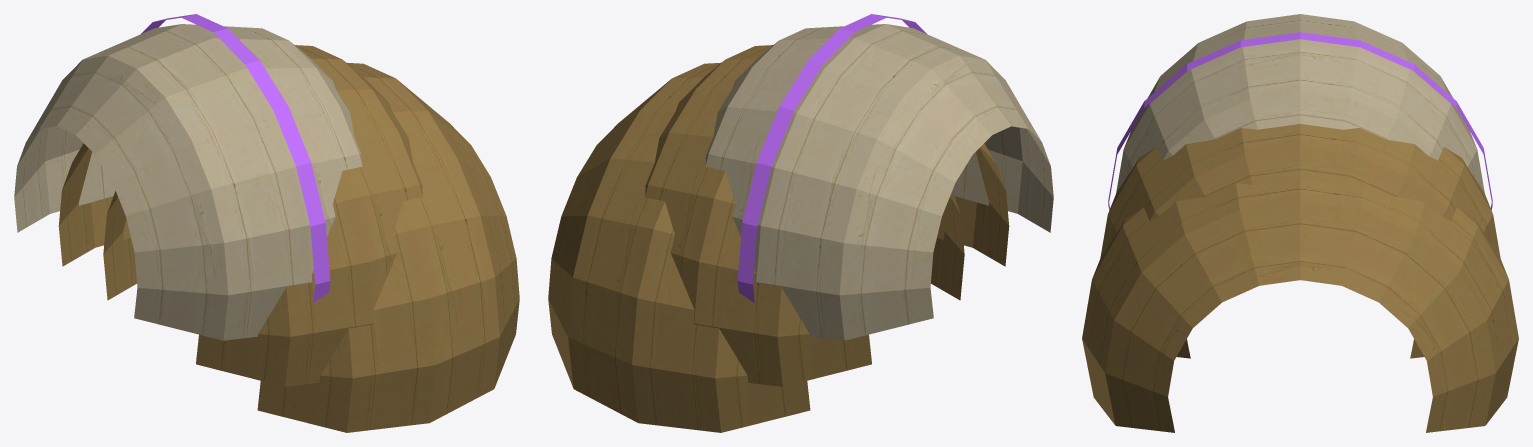
File: eq_future_3_shoulder.glb
The picture shows the model from 3 angles, left to right: view 1: azimuth 30°, elevation 25°; view 2: azimuth 150°, elevation 25°; view 3: azimuth 270°, elevation 25°; orthographic projection. The views are drawn at different scales.
Visible parts, largest first — view 1: eq_future_3_shoulder; view 2: eq_future_3_shoulder; view 3: eq_future_3_shoulder.
Boxes of the visible parts, x1,y1,x2,y2 form: eq_future_3_shoulder: (14, 14, 519, 432); eq_future_3_shoulder: (548, 14, 1053, 432); eq_future_3_shoulder: (1082, 14, 1518, 432).
Size of the model in its own units: 0.2646 by 0.2277 by 0.2851.
Materials: 3 (3 with a texture image).
